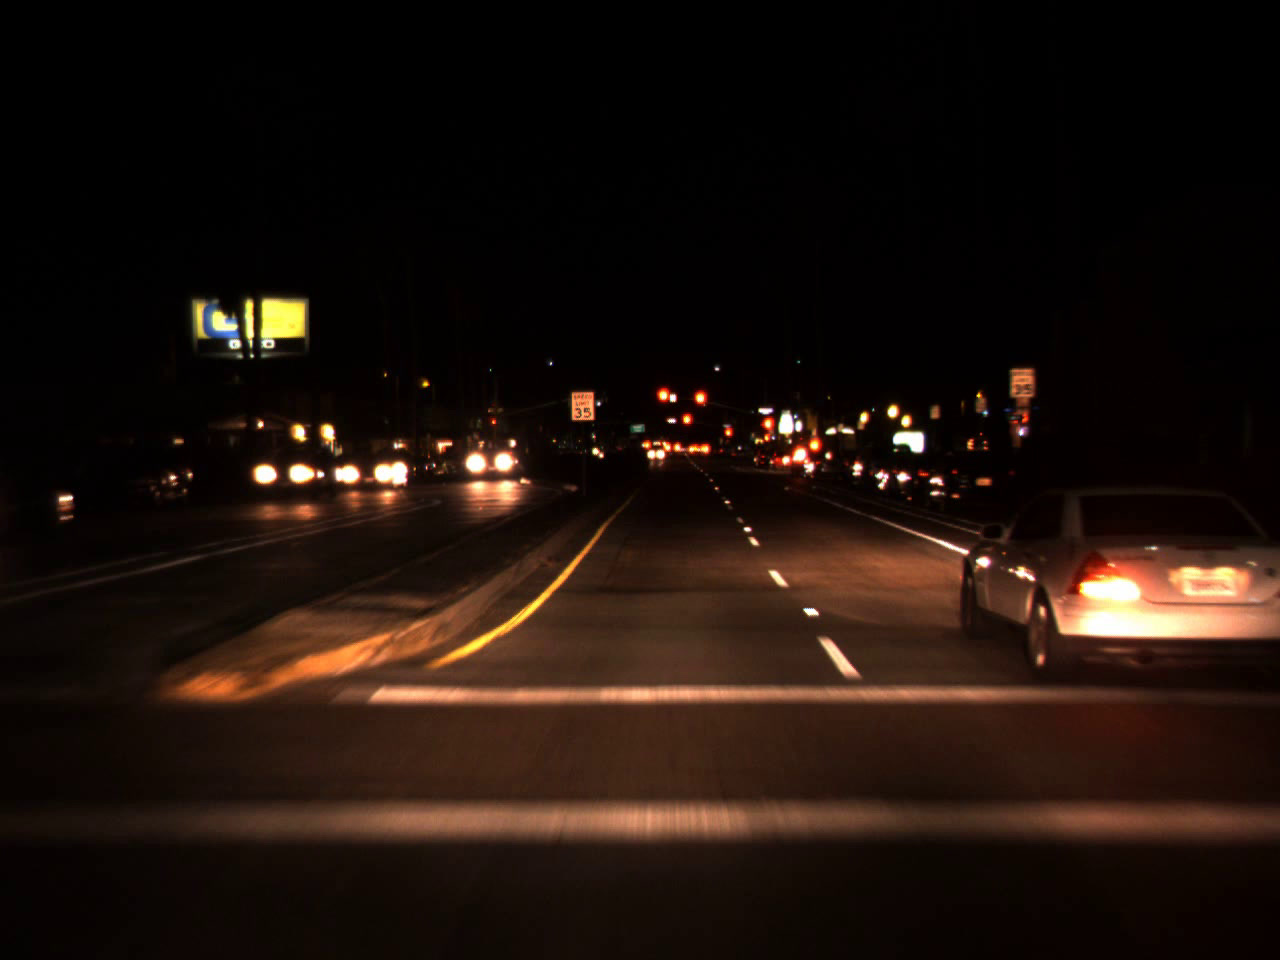stop: (655, 385, 673, 419), (759, 415, 777, 447), (692, 389, 708, 421), (680, 411, 693, 438), (724, 426, 733, 447), (491, 419, 497, 429)
